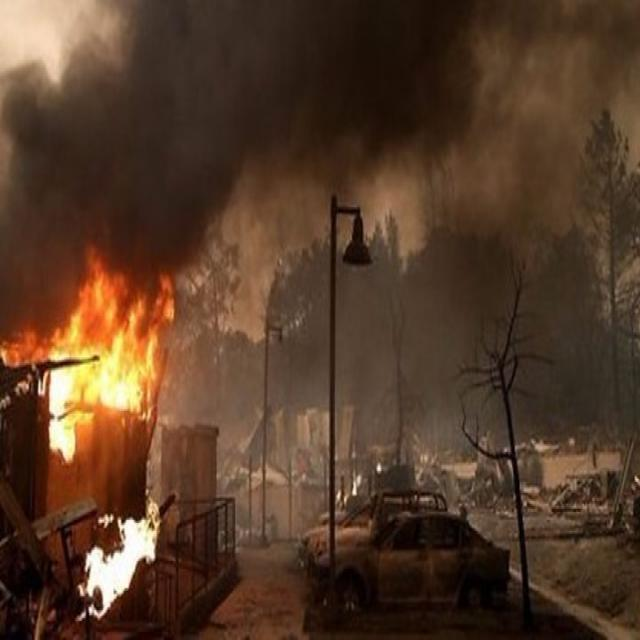Fire: (21, 245, 175, 449), (83, 503, 158, 621)
